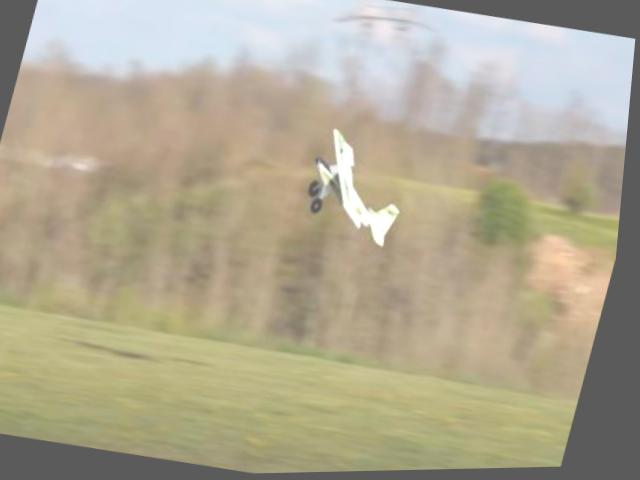uav: (294, 125, 422, 257)
